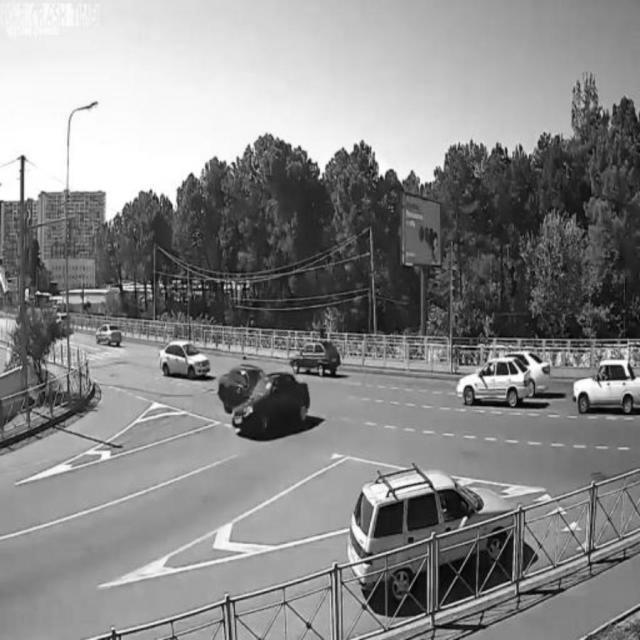accident: (217, 361, 315, 439)
vehicle: (350, 468, 514, 596), (571, 360, 640, 416), (454, 358, 532, 404), (157, 336, 212, 382), (291, 339, 342, 379), (92, 318, 122, 348)
